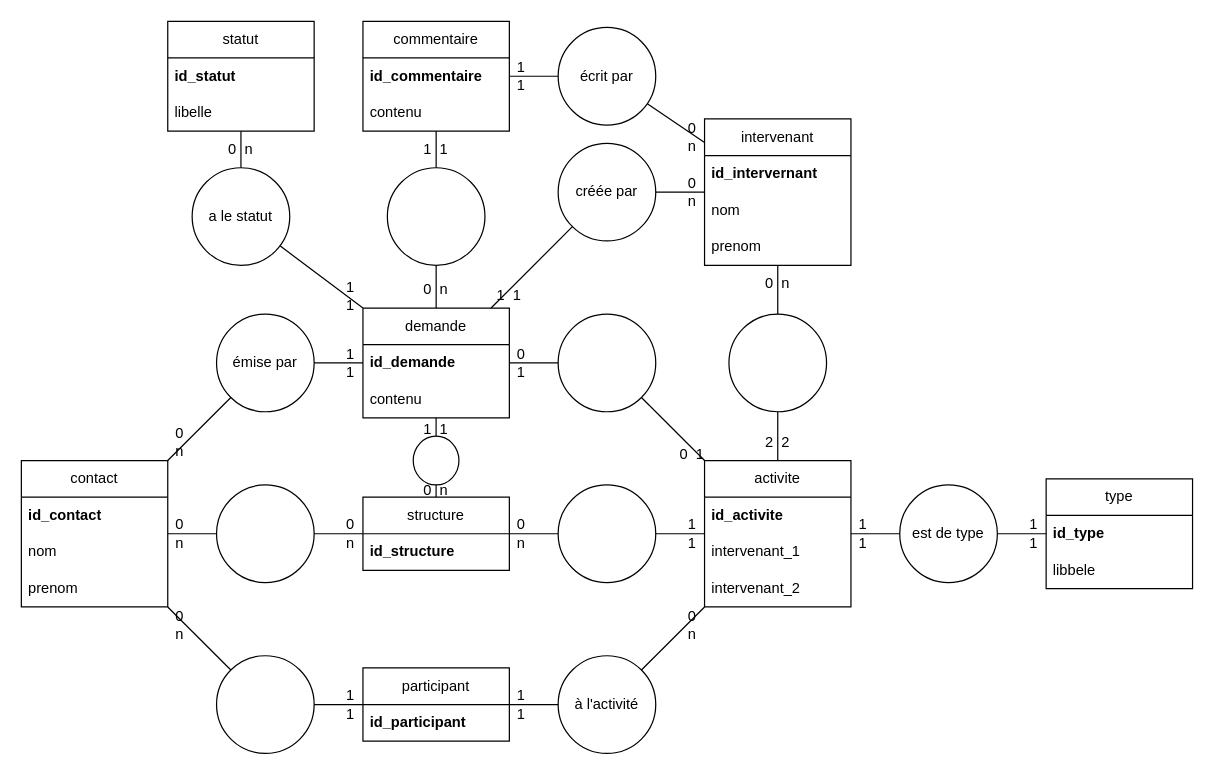
Image size: 1214x775. Some labels were removed from this diagram. Here are the shapes that lost their labels. From the top down, the centre of each, then its label:
the point at 435,216: commenté
the point at 606,362: transformée en
the point at 777,362: intervient
the point at 435,460: pour
the point at 264,533: appartient
the point at 606,533: a lieu à
the point at 264,704: participe
